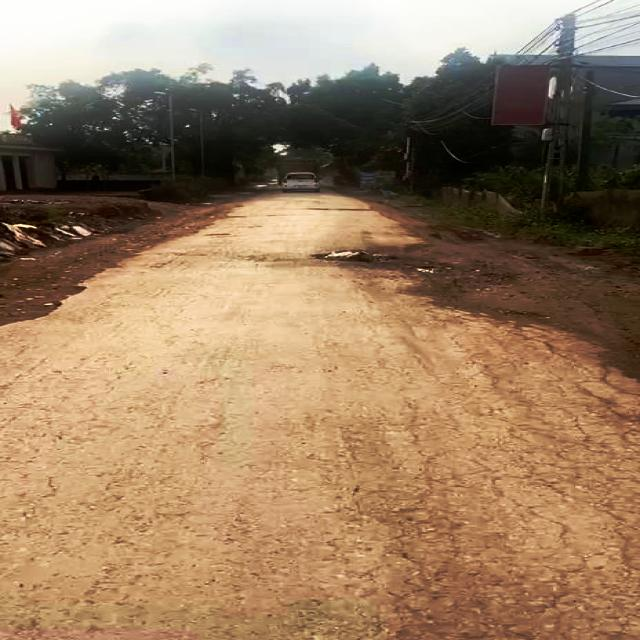pothole: (305, 246, 396, 269)
